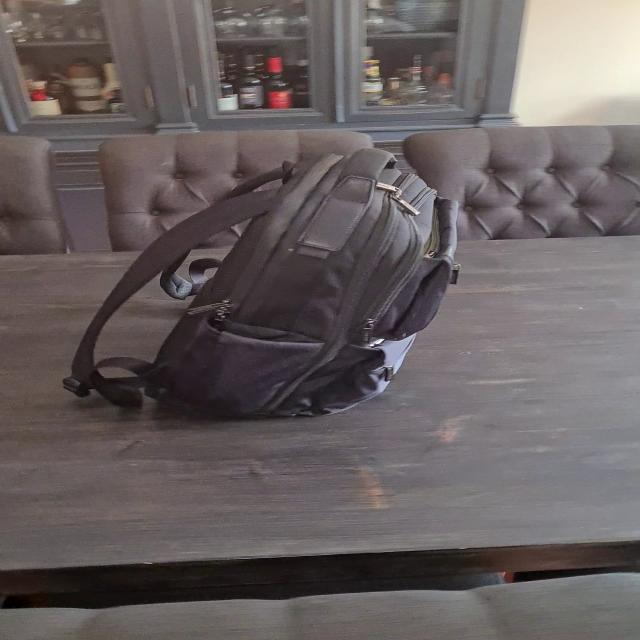backpack: (123, 126, 470, 427)
